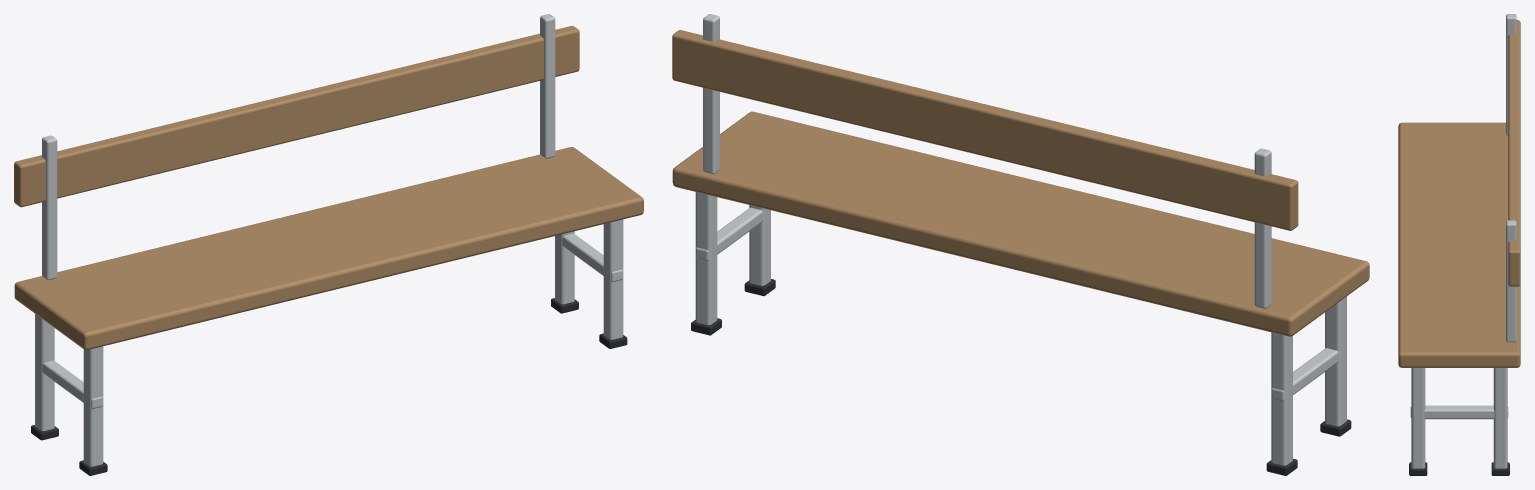
Rendered from rowing-boathouse-and-regatta-course-spectator-bench-e8d0112f__32166.glb.
The picture shows the model from 3 angles, left to right: view 1: azimuth 30°, elevation 25°; view 2: azimuth 150°, elevation 25°; view 3: azimuth 270°, elevation 25°; orthographic projection. The views are drawn at different scales.
Visible parts, largest first — view 1: spectator-bench; view 2: spectator-bench; view 3: spectator-bench.
Part boxes in pixels (x1,y1,x2,y2): spectator-bench: [14, 14, 643, 475]; spectator-bench: [672, 14, 1369, 475]; spectator-bench: [1398, 14, 1520, 475].
Size of the model in its own units: 1.8 by 0.8901 by 0.3999.
